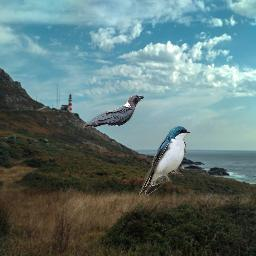Crow: (83, 95, 144, 128)
Swallow: (139, 126, 191, 196)
